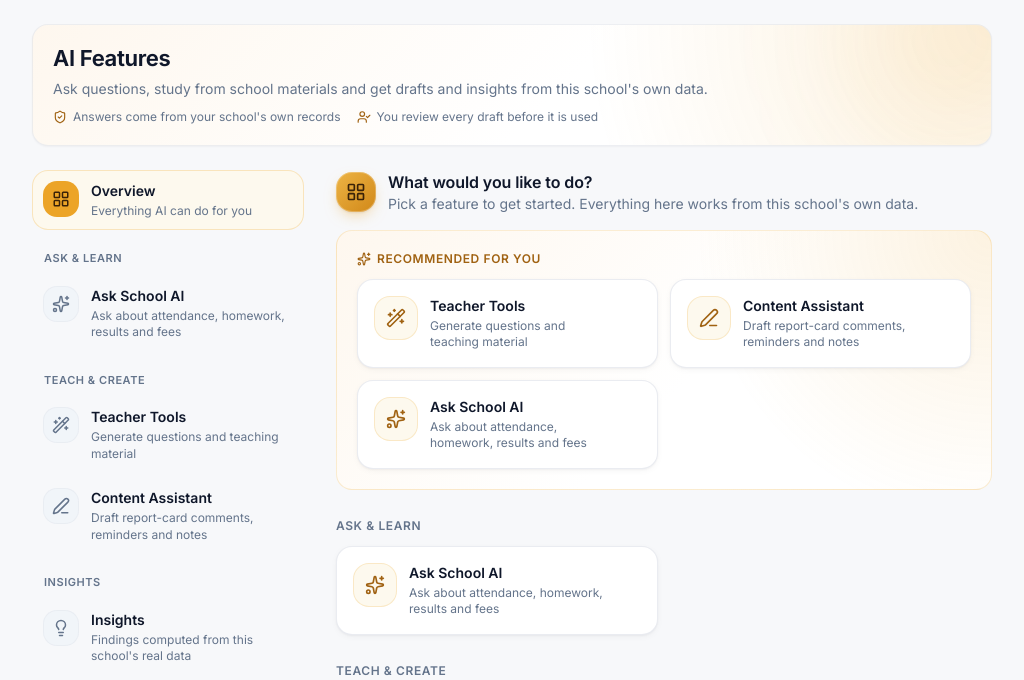
Test case: AIFeaturesPage › brings the feature you used last to the front next time
Click the button "Ask School AI" below "Recommended for you" at (508, 424), box [357,380,658,468]
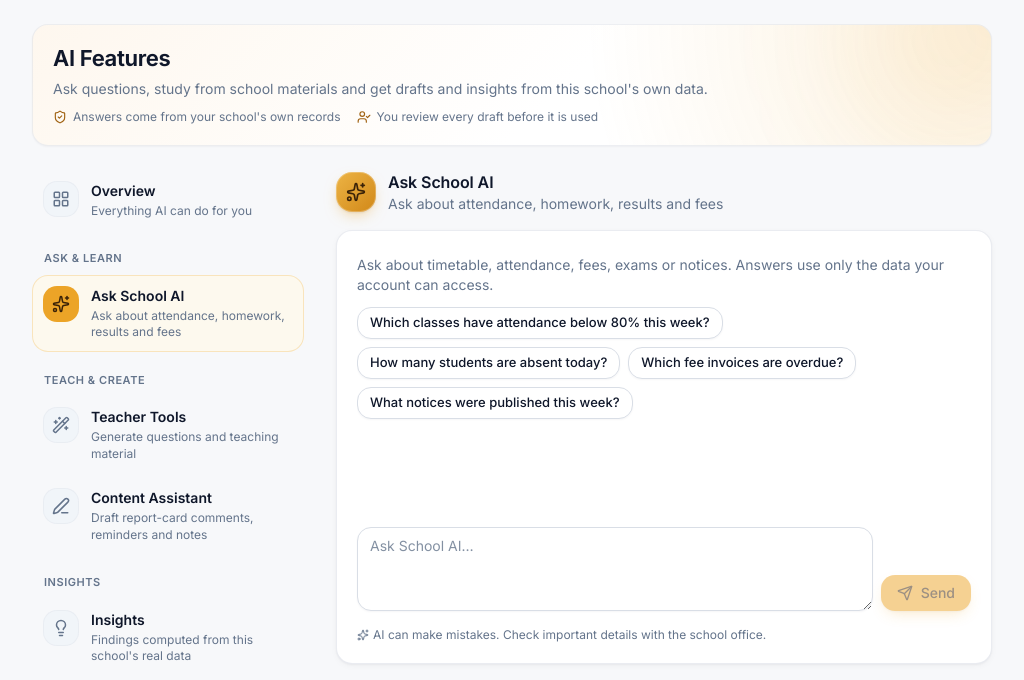
Click the tab "Overview Everything AI can do for you" at (168, 200), box [32,170,304,230]
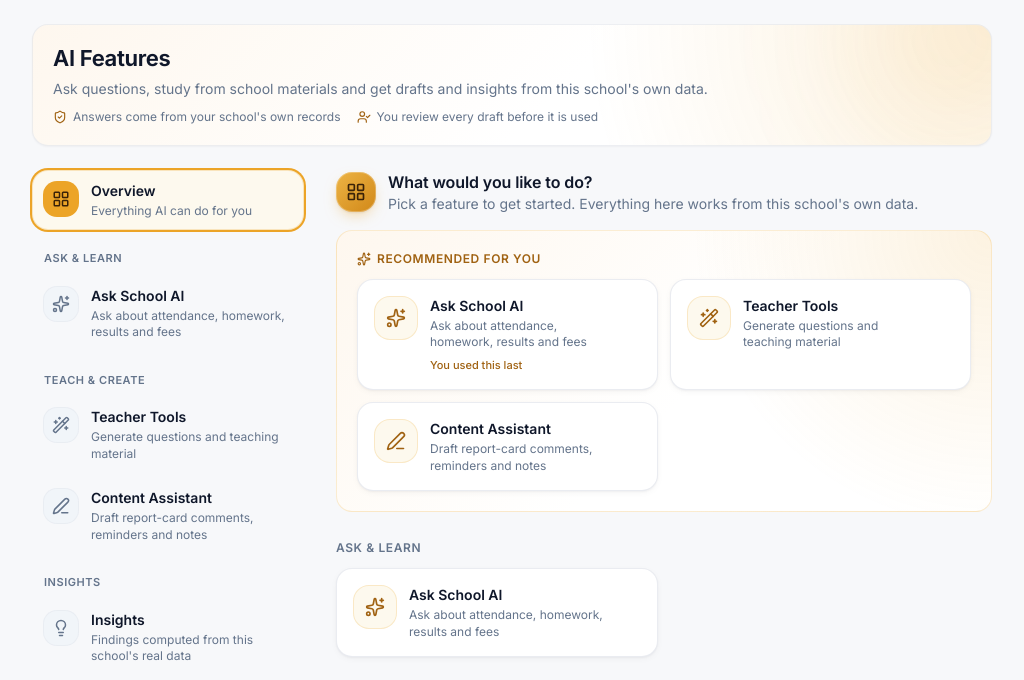
expect the 1st button shows "Ask School AI": met, box [357,278,658,390]
expect the text "You used this last" is shown: met, box [430,358,522,372]
